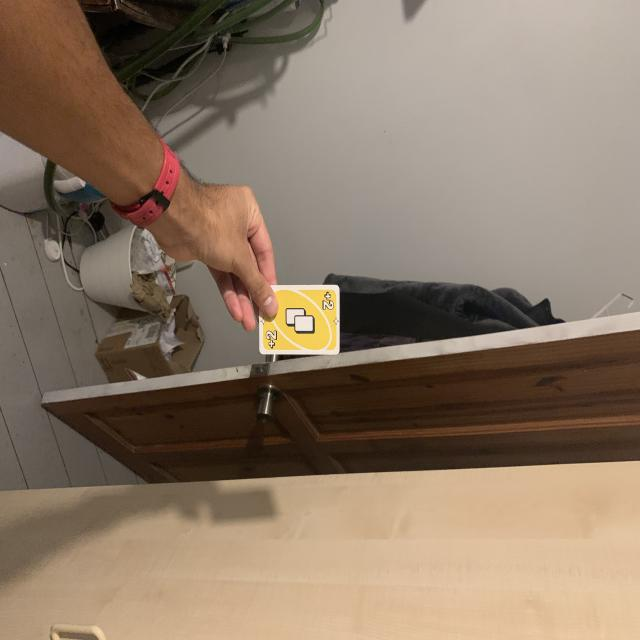lyellow-20: (320, 290, 336, 314)
